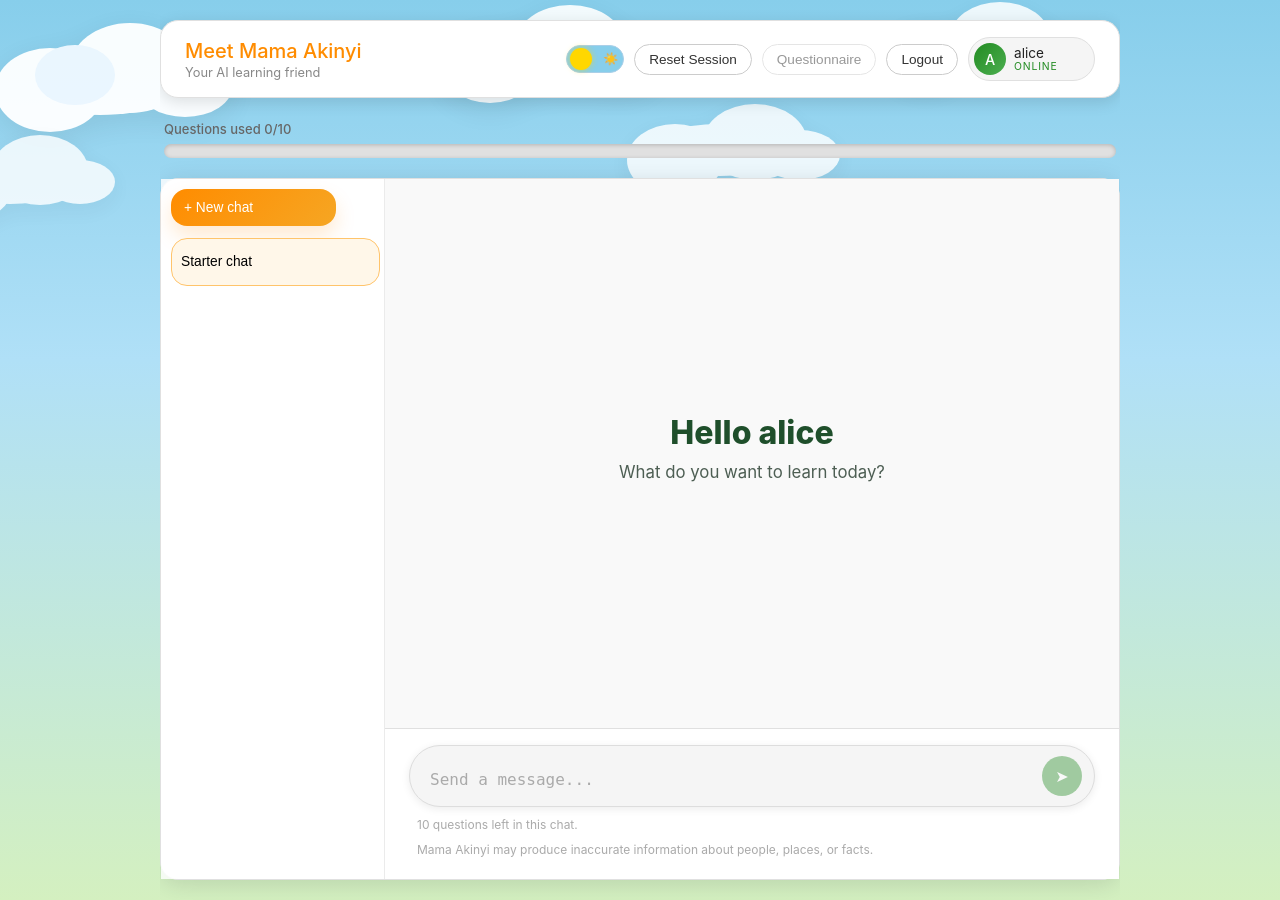
Test: repairs mojibake and renders simple markdown formatting in assistant replies
expect the button "Starter chat" is shown: met, box [181,248,333,276]
Type "how is ice formed?" into the text box with placeholder "Send a message...".
click(731, 782); type("how is ice formed?")  # box [430,768,1032,796]
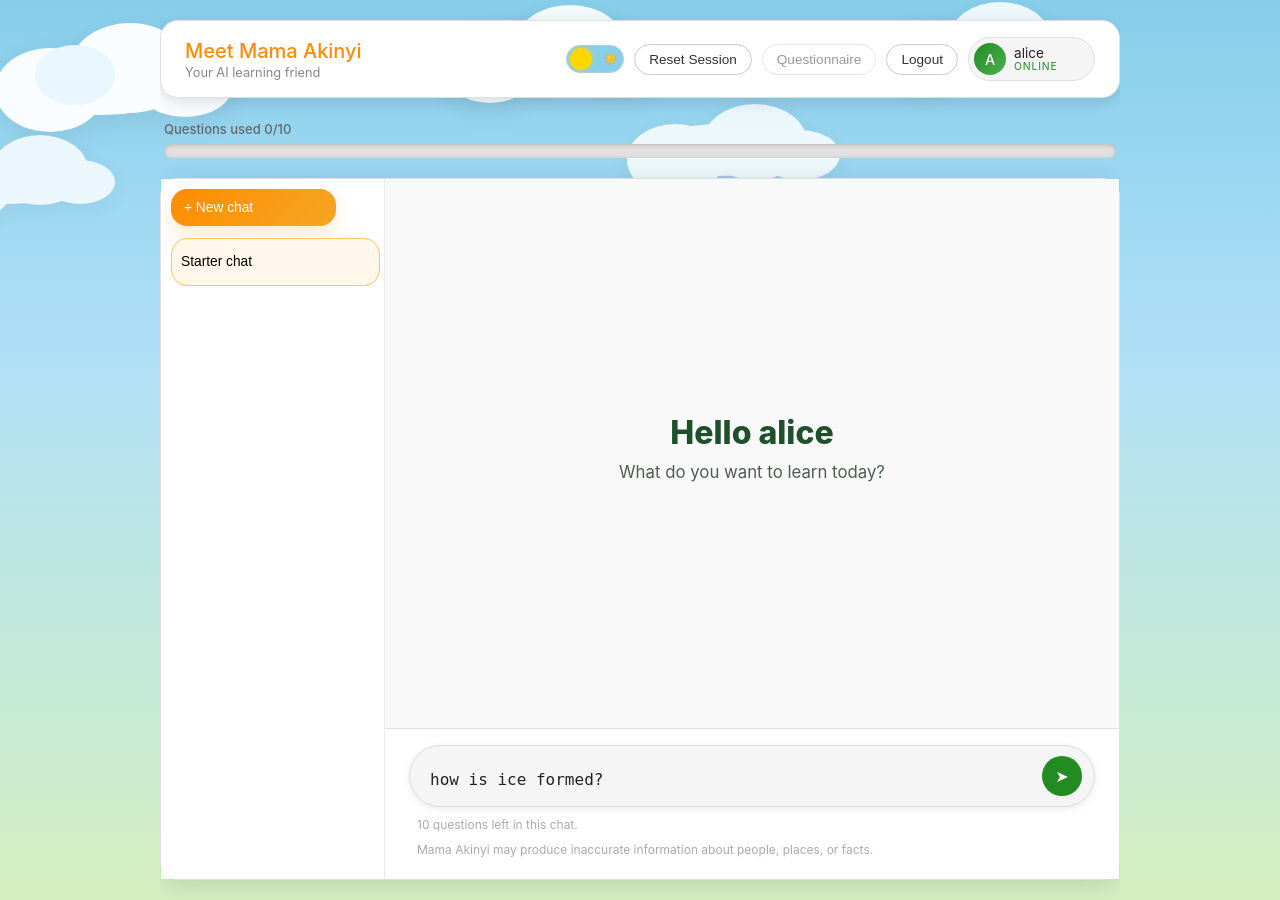
Click the button named "send".
click(1062, 776)  # box [1042,756,1082,796]
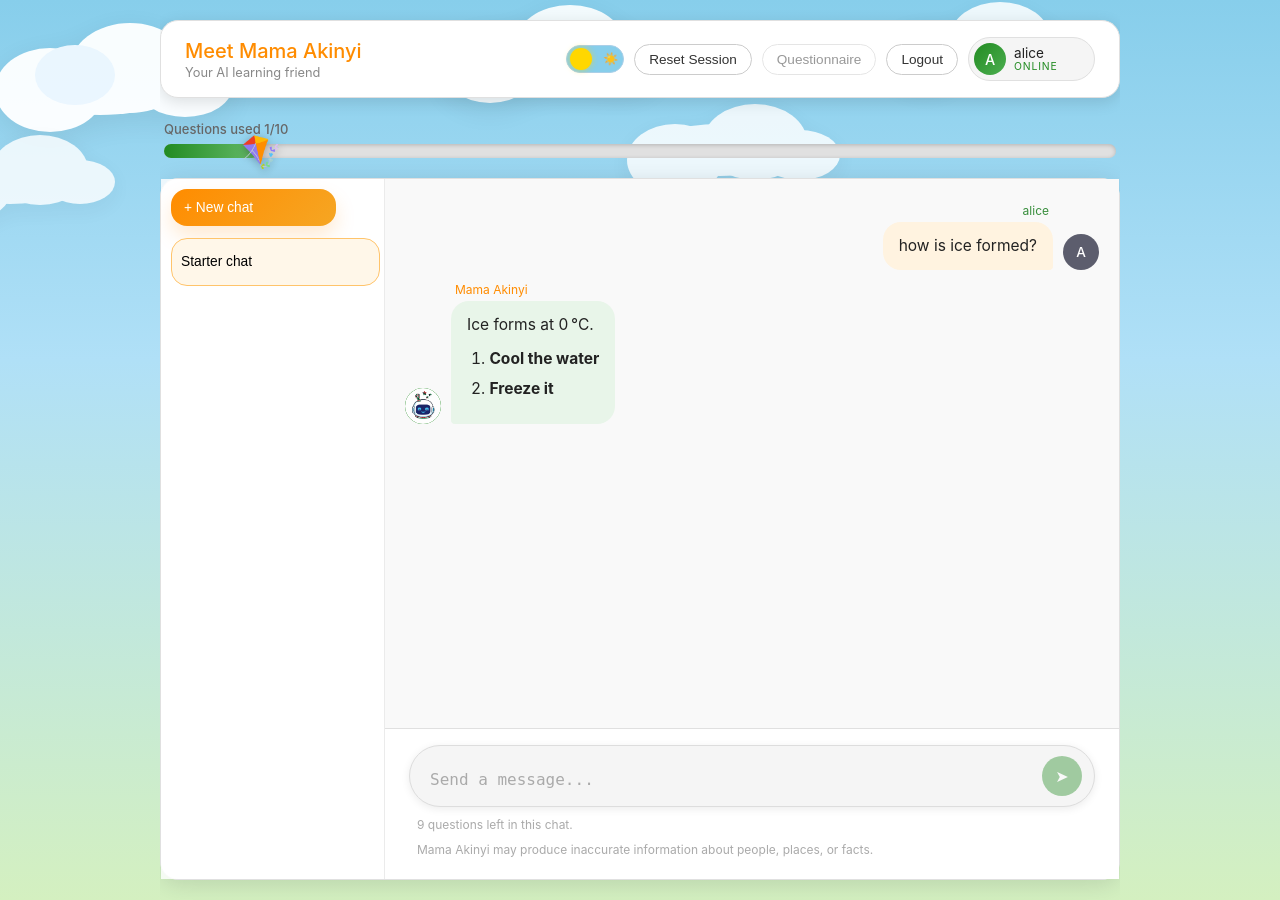
expect the text "Ice forms at 0 °C." is shown: met, box [467,313,599,337]
